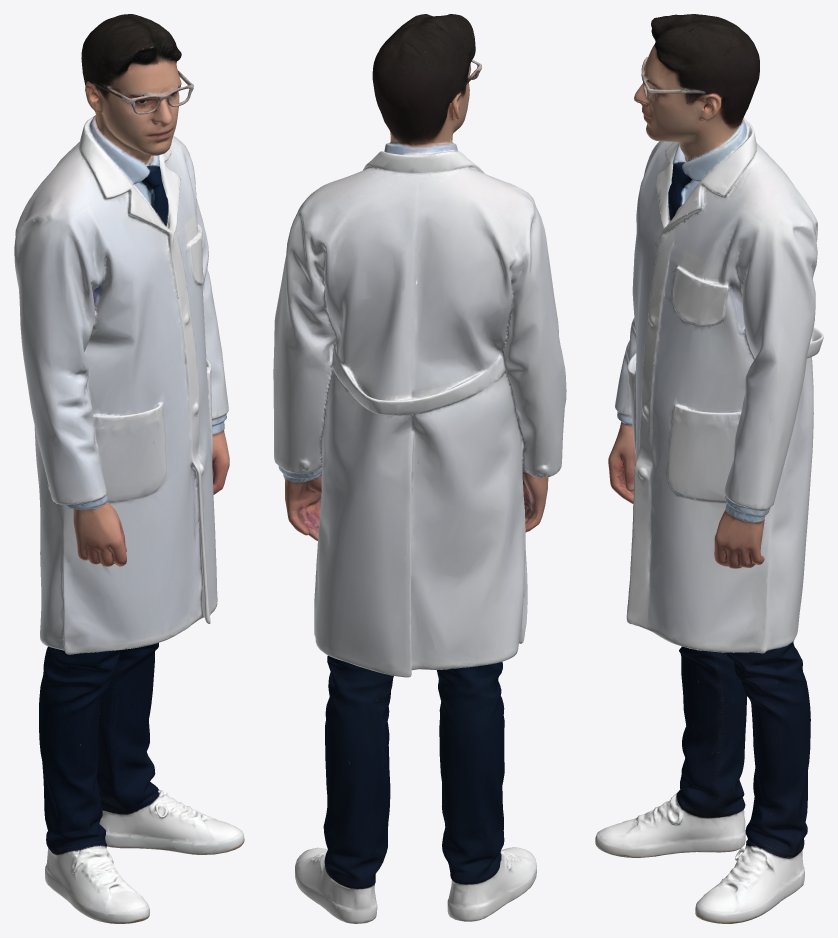
The model's file is researcher.glb.
3 renders of one model, left to right at view 1: azimuth 30°, elevation 25°; view 2: azimuth 150°, elevation 25°; view 3: azimuth 270°, elevation 25°, orthographic.
Size of the model in its own units: 0.4851 by 1.7 by 0.413.
1 material, 1 textured.
